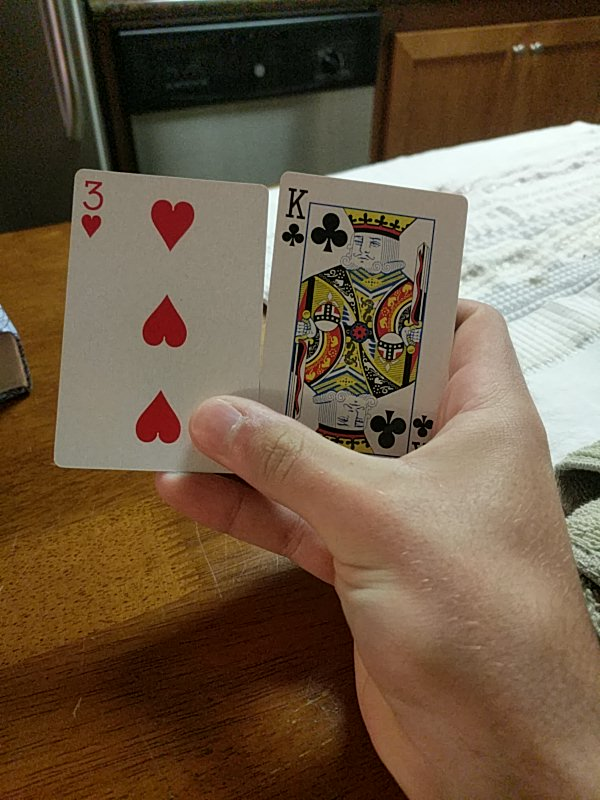Clubs: (263, 172, 470, 463)
Hearts: (58, 169, 270, 474)
